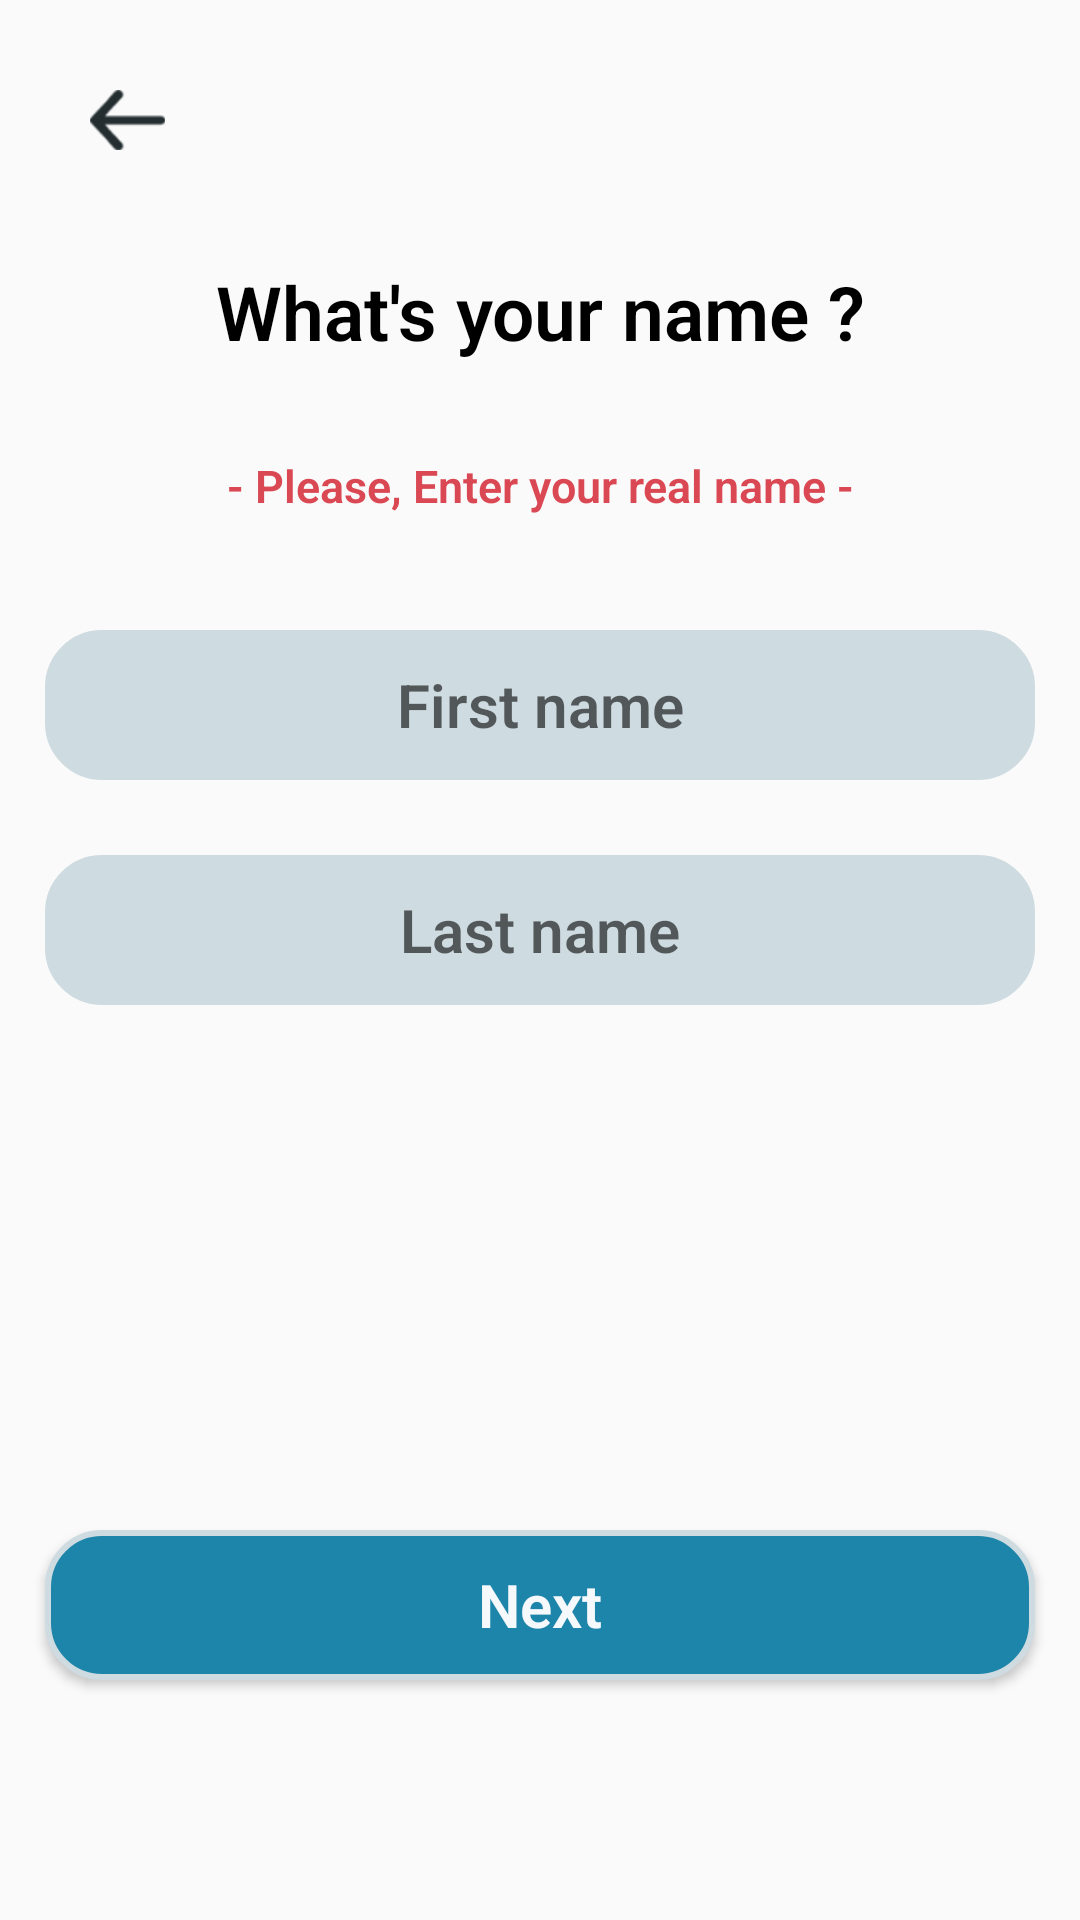

Icons on this 1080×1920 Android screen, each with the point to tap as point (x, y):
arrow: point (127, 120)
